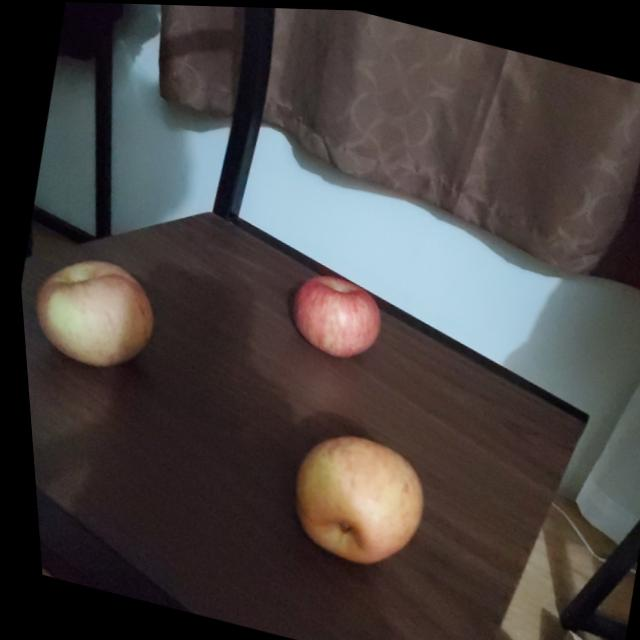apple: (272, 420, 430, 576), (16, 245, 162, 376), (276, 265, 386, 364)
